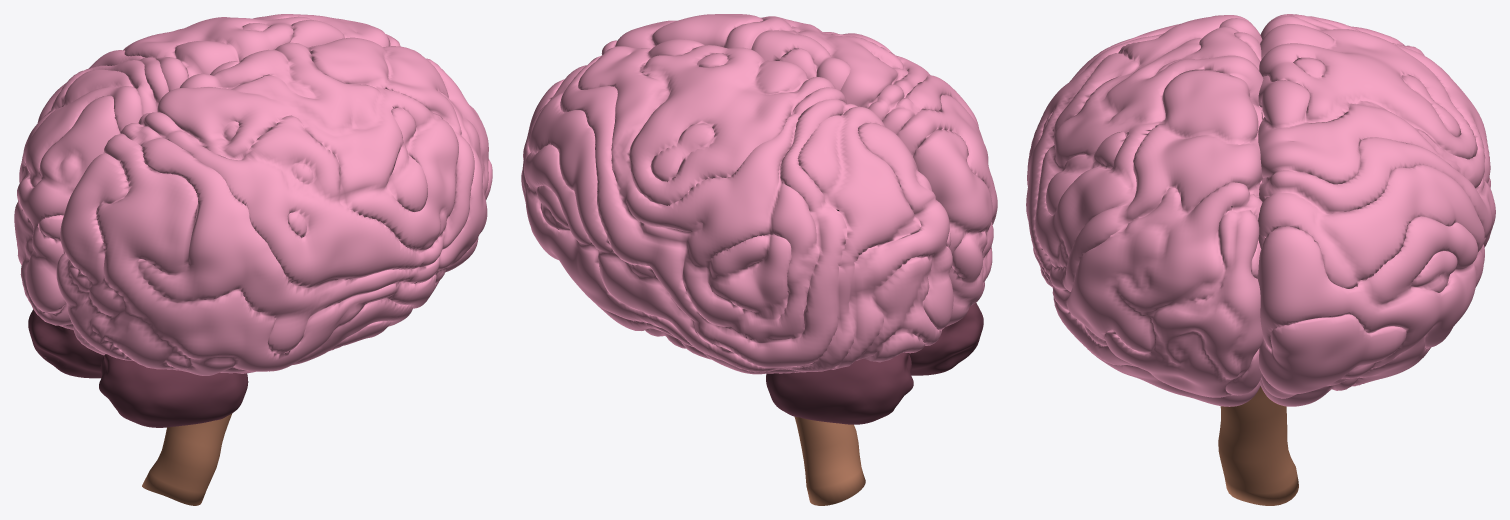
File: Brain.fbx
The picture shows the model from 3 angles, left to right: view 1: azimuth 30°, elevation 25°; view 2: azimuth 150°, elevation 25°; view 3: azimuth 270°, elevation 25°; orthographic projection. The views are drawn at different scales.
Visible parts, largest first — view 1: Big Brain; view 2: Big Brain; view 3: Big Brain.
Boxes of the visible parts, bbox=[...] form: Big Brain: bbox=[14, 14, 492, 505]; Big Brain: bbox=[521, 14, 997, 505]; Big Brain: bbox=[1026, 14, 1495, 505].
Size of the model in its own units: 190 by 189 by 163.
1 material, 1 textured.
